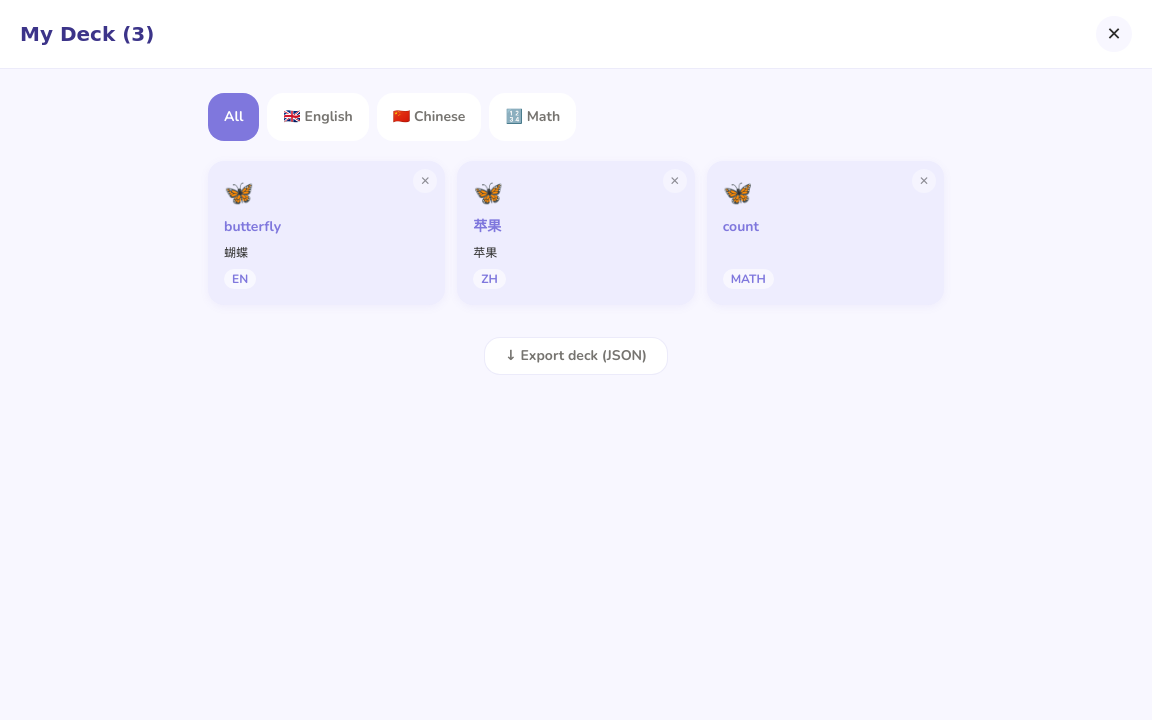
Test: DeckView — with cards › filters to English cards only
The image size is (1152, 720).
Step 1. Click the button "🇬🇧 English" → [318, 117], box [267,93,369,141]
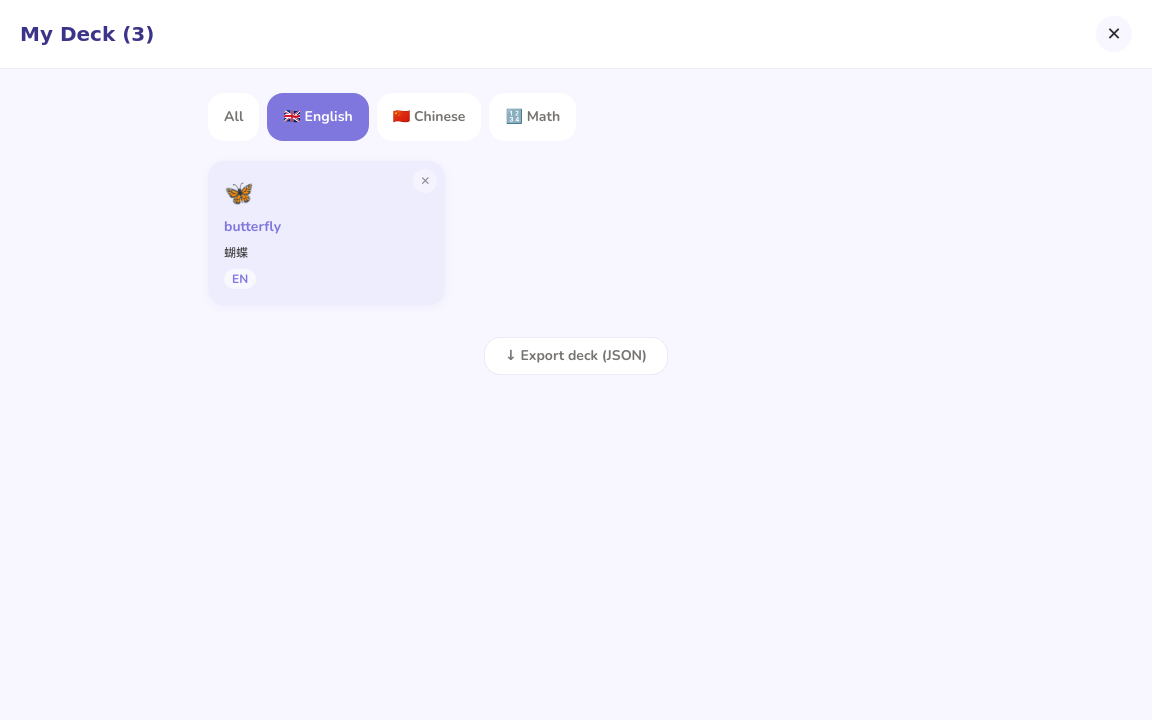
expect the text "butterfly" is shown: met, box [224,217,281,236]
expect the text "count" is gone: met
